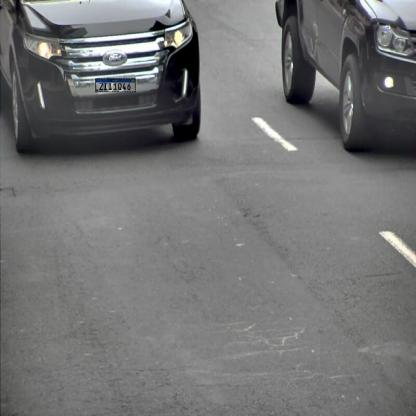PlacaM: (95, 78, 136, 92)
